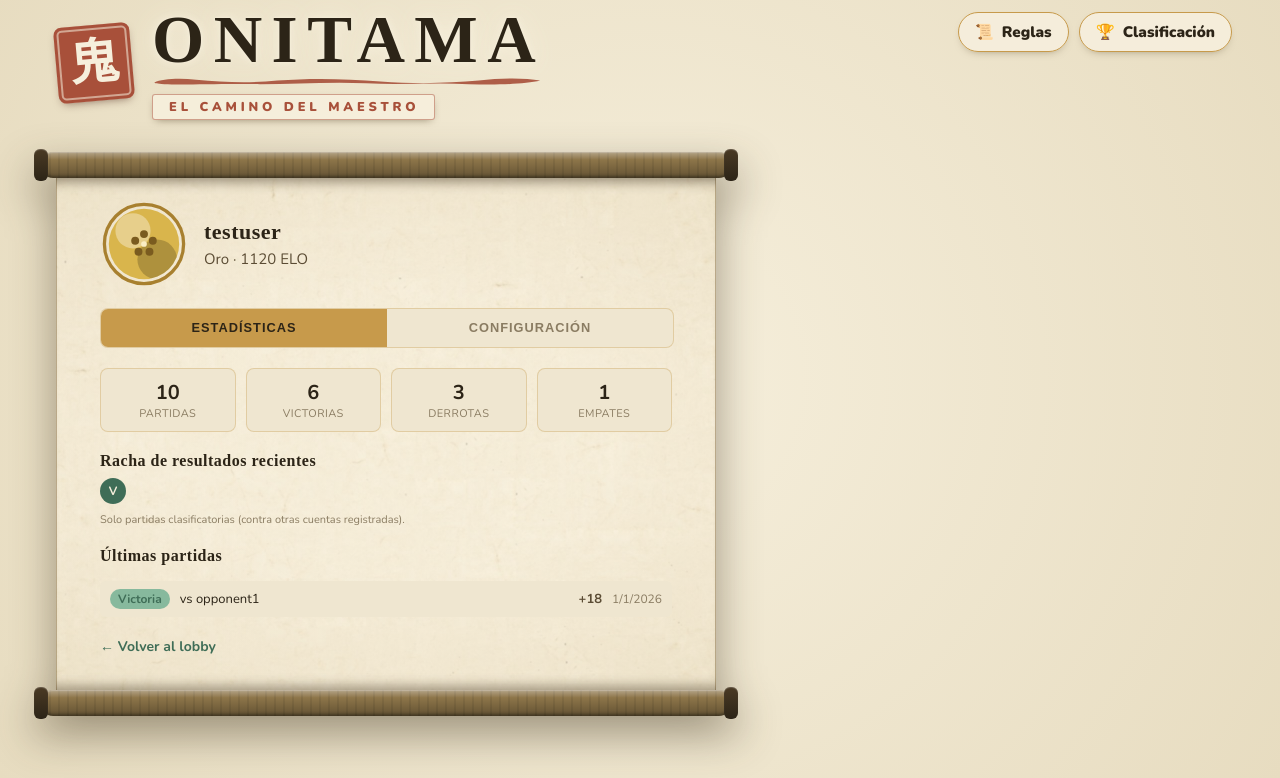
Test case: ProfilePage › la pestaña de configuración muestra el formulario de cambio de contraseña y el botón de eliminar cuenta
Expected: the heading "testuser" is shown, x1=204 y1=219 x2=281 y2=244
Click the button "Configuración" at (530, 328), box x1=387 y1=309 x2=673 y2=347
(page scrolled)
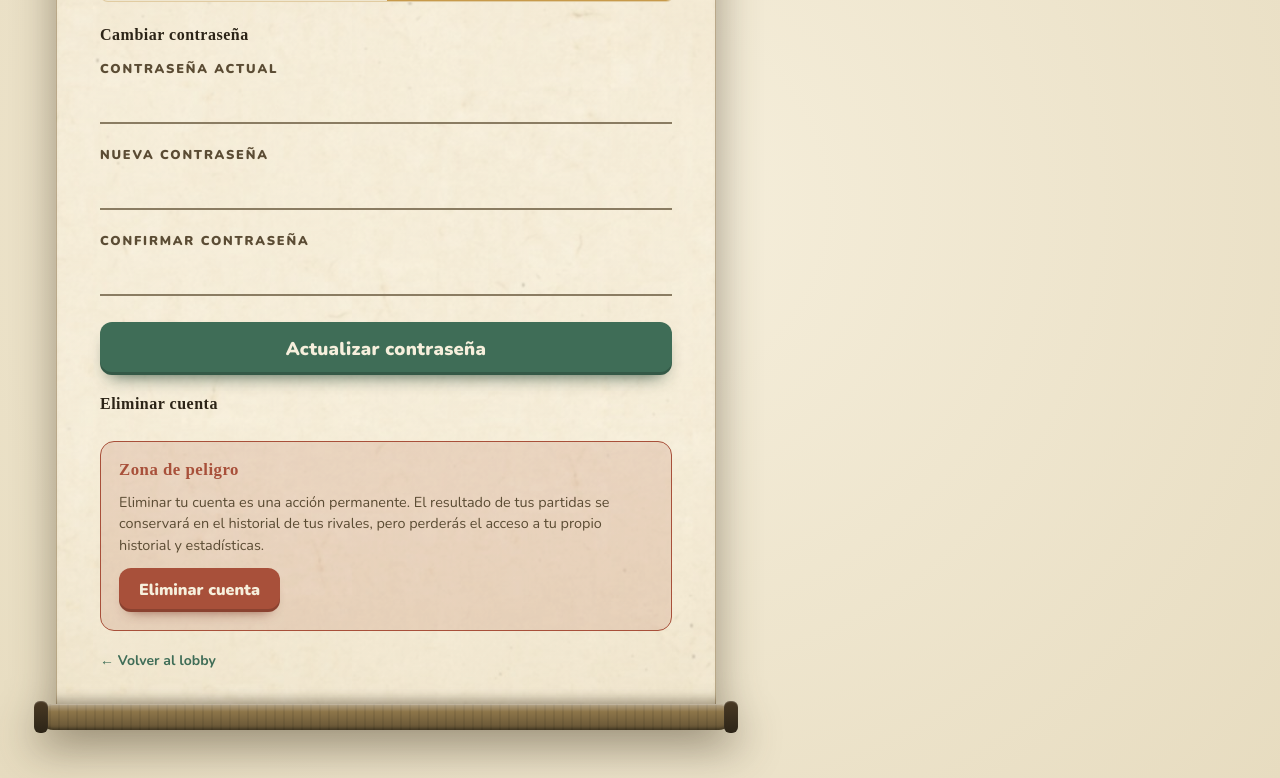
Now the button "Actualizar contraseña" is shown, box x1=100 y1=322 x2=672 y2=375
Now the button "Eliminar cuenta" is shown, box x1=119 y1=568 x2=280 y2=612
